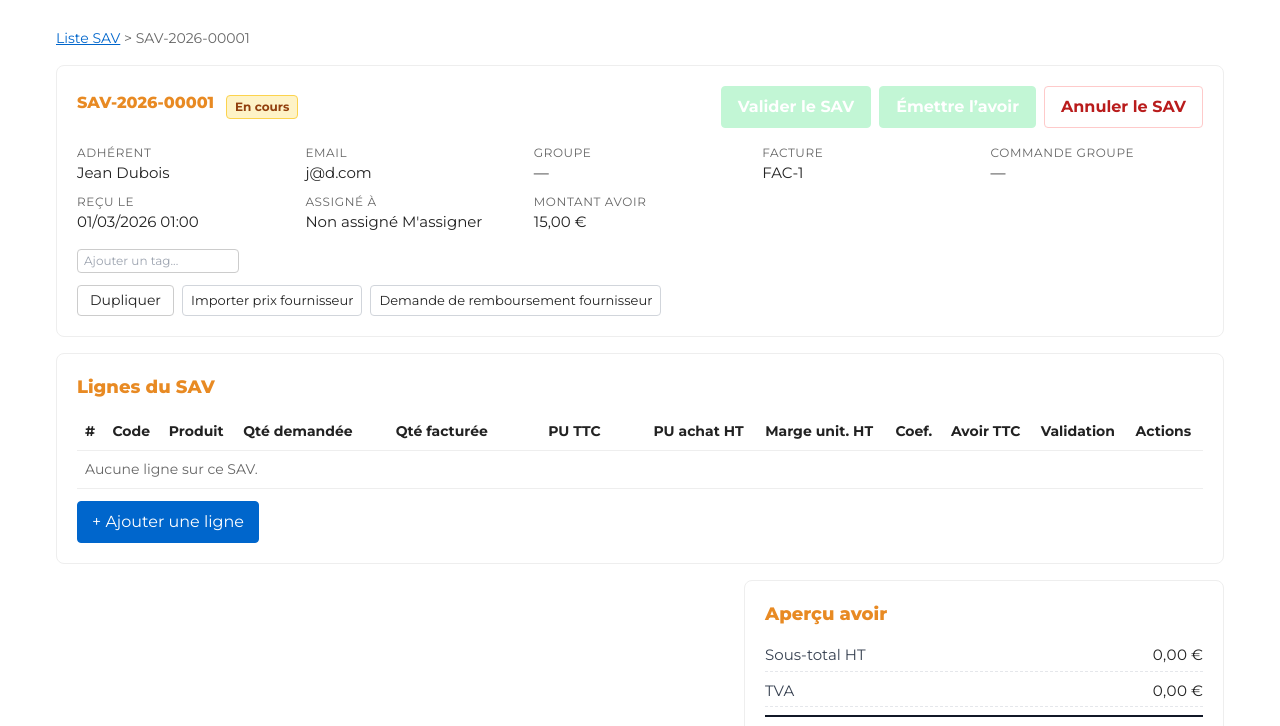
Test: SavDetailView — M'assigner button (Story 3.7b AC#14) › AM-03: 409 VERSION_CONFLICT → toast role="alert" + re-fetch SAV detail
The width and height of the screenshot is (1280, 726).
Click the button with aria-label "M". click: (442, 222)
box: [402, 210, 482, 233]
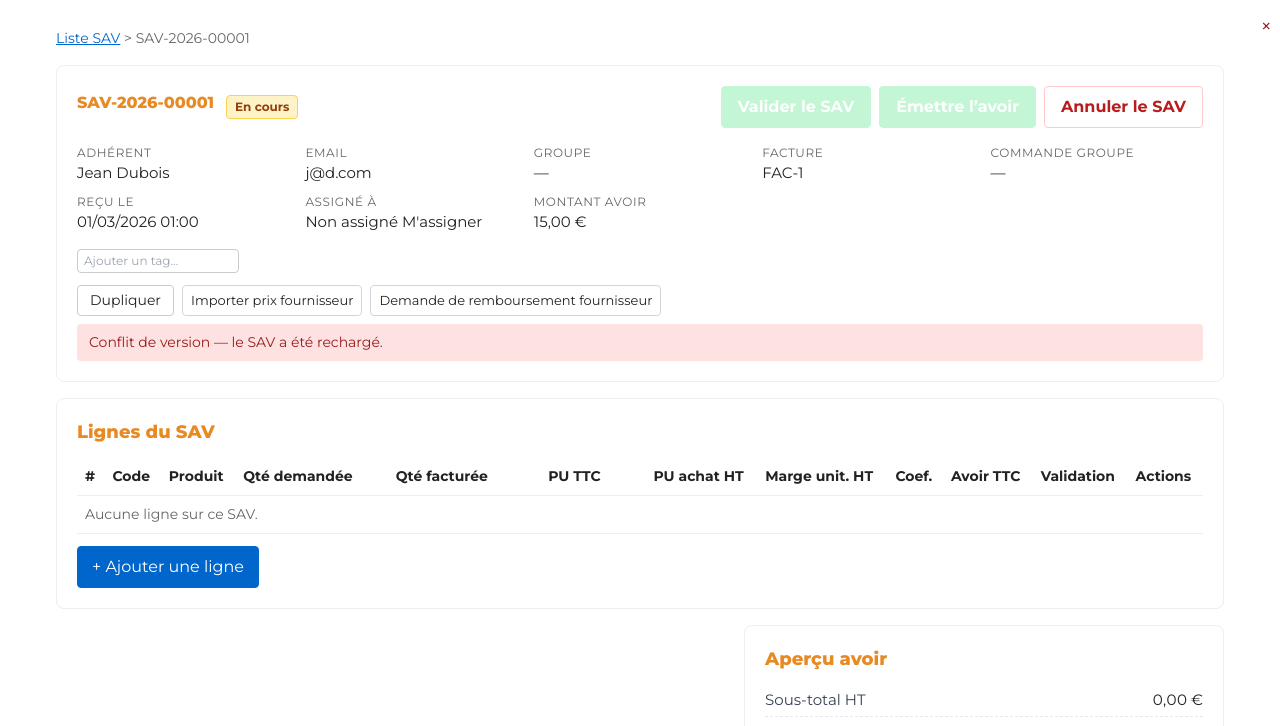
Check: the message "Conflit de version — le SAV a été rechargé. ×" is shown, box [77, 324, 1203, 361]
